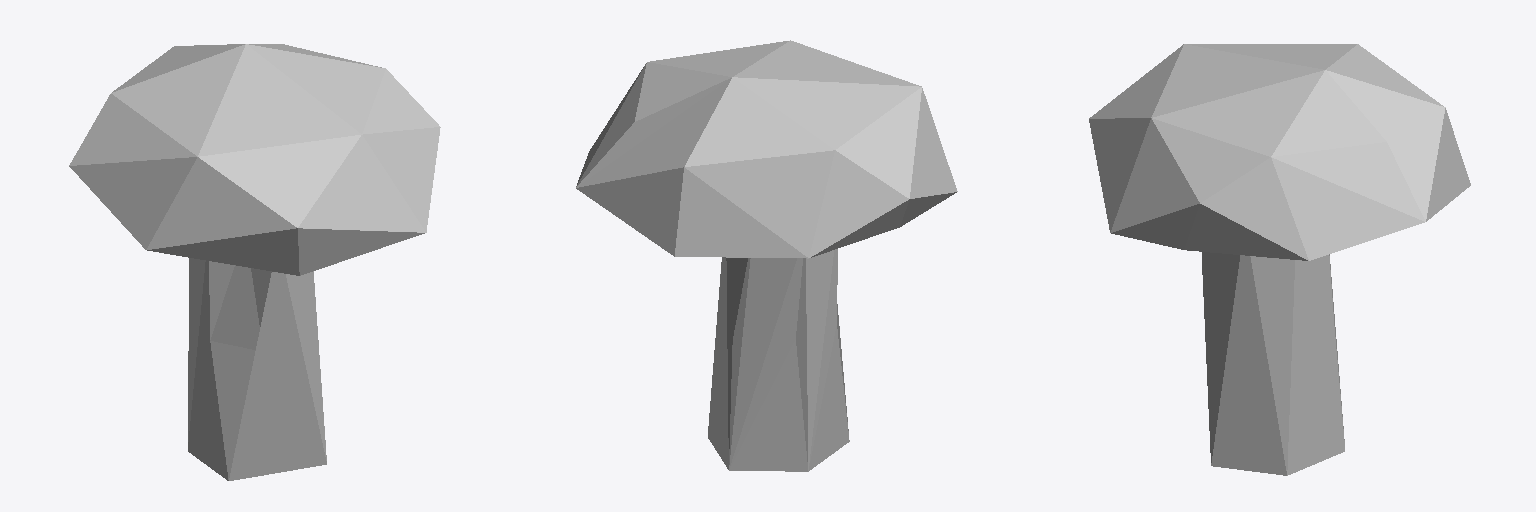
File: mushroom01.obj
3 views of the same model, side by side, from view 1: azimuth 30°, elevation 25°; view 2: azimuth 150°, elevation 25°; view 3: azimuth 270°, elevation 25° (orthographic).
Visible parts, largest first — view 1: Cylinder; view 2: Cylinder; view 3: Cylinder.
Boxes of the visible parts, <box> form: Cylinder: <box>69,44,440,480</box>; Cylinder: <box>576,40,957,471</box>; Cylinder: <box>1089,44,1470,475</box>.
Bounding box in the file's own units: 0.1174 × 0.1313 × 0.1184.